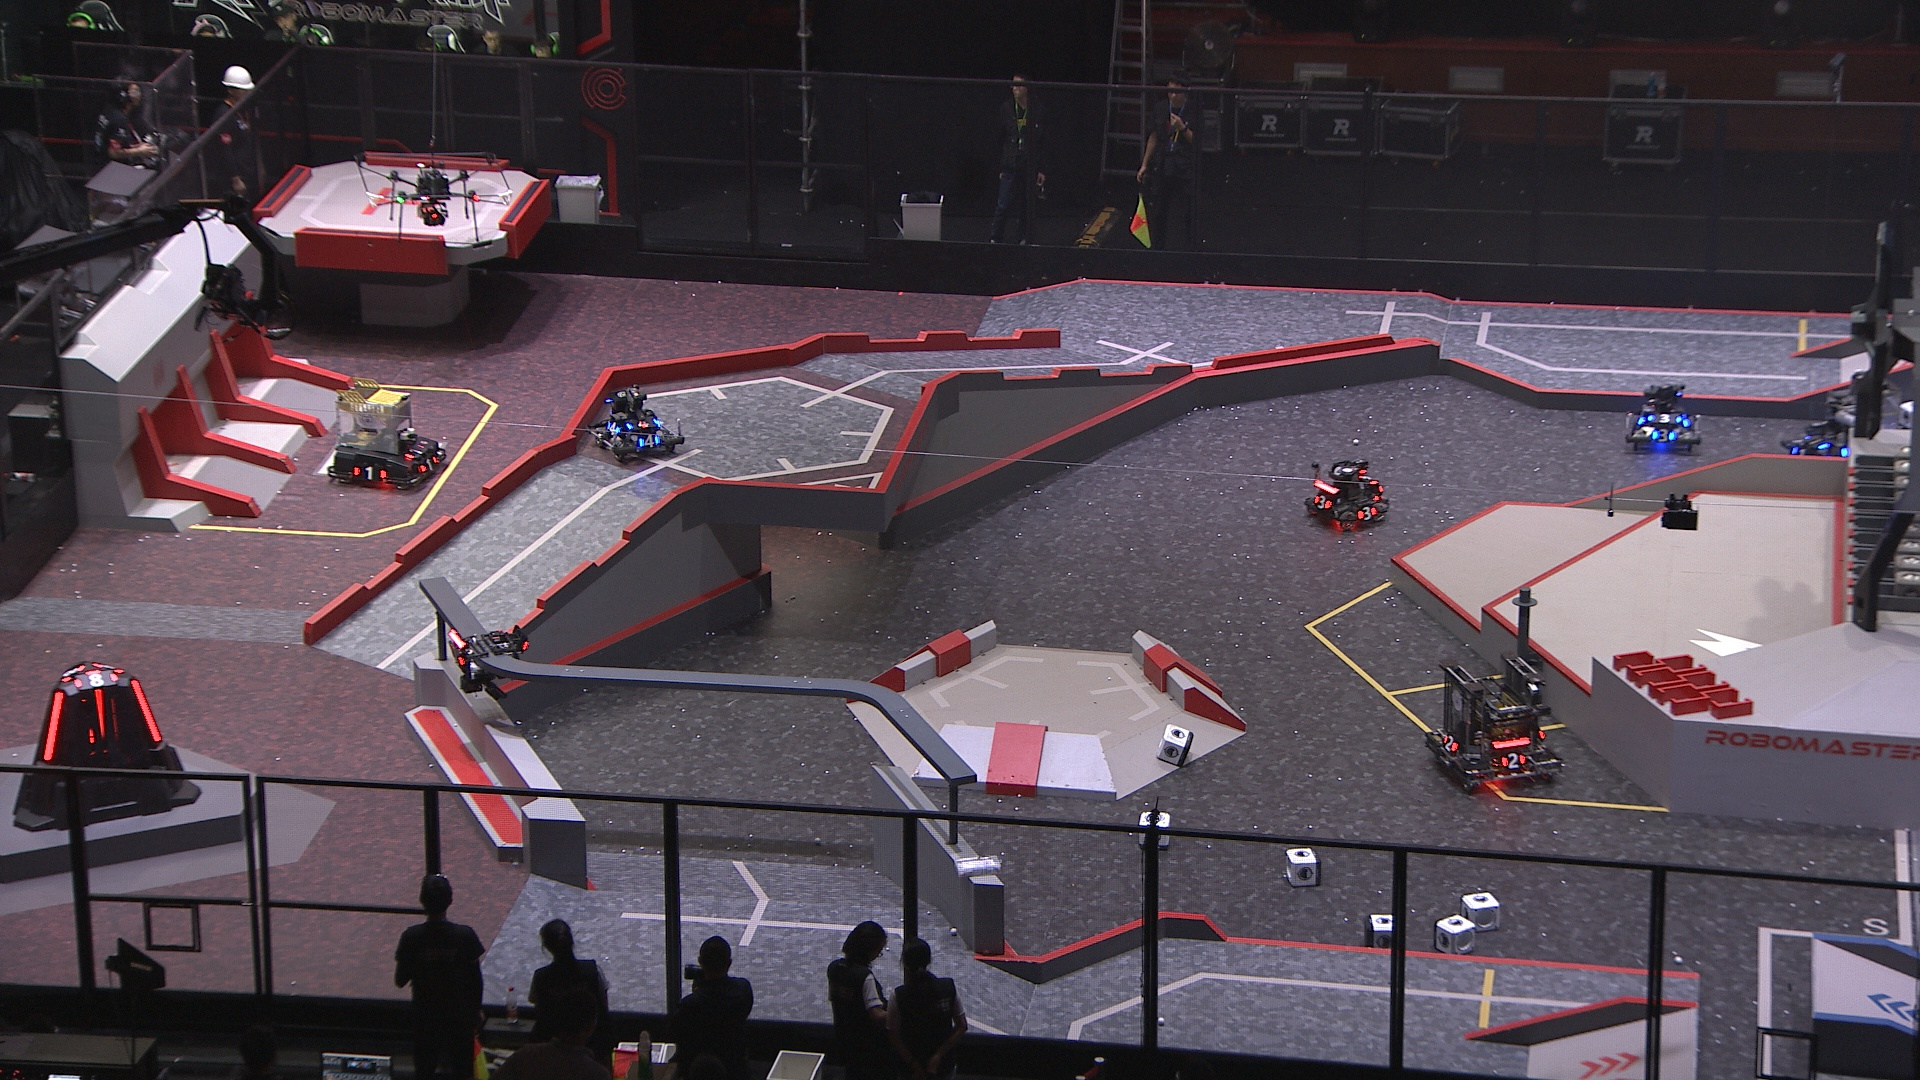armor: (128, 674, 162, 744), (40, 683, 65, 764), (71, 669, 120, 688), (95, 688, 109, 740), (349, 463, 389, 481), (446, 638, 467, 669), (57, 661, 83, 683), (404, 438, 427, 460), (1499, 752, 1527, 770), (1644, 411, 1683, 425), (92, 659, 127, 674), (1648, 427, 1679, 443), (1804, 431, 1832, 448), (1357, 465, 1379, 487), (415, 455, 439, 475), (1353, 504, 1377, 524), (626, 418, 662, 431), (636, 433, 661, 451), (1441, 731, 1457, 754), (1681, 411, 1698, 433), (1309, 495, 1332, 510), (604, 419, 622, 438), (1789, 440, 1809, 458)
base: (7, 647, 202, 835)
car: (1424, 647, 1561, 790), (323, 375, 451, 493), (1779, 365, 1907, 473), (584, 384, 684, 465), (1304, 458, 1393, 535), (1625, 384, 1706, 455)
watcher: (439, 621, 531, 694)
